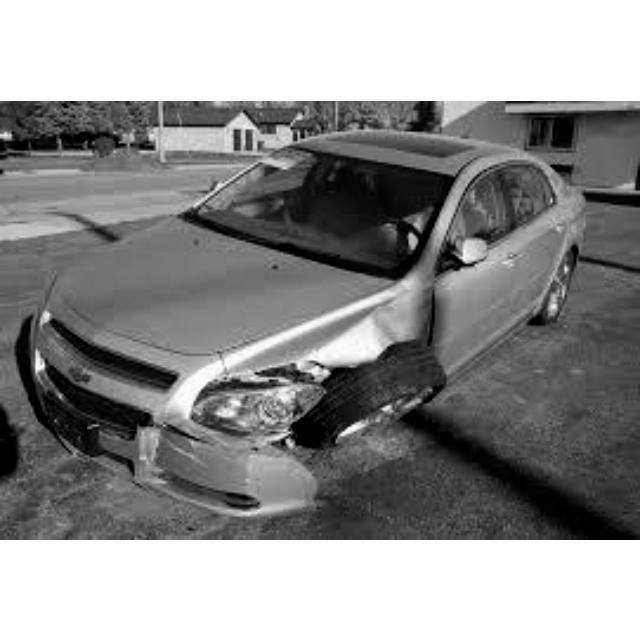fender-dent: (253, 287, 432, 388)
front-bumper-dent: (104, 403, 278, 506)
